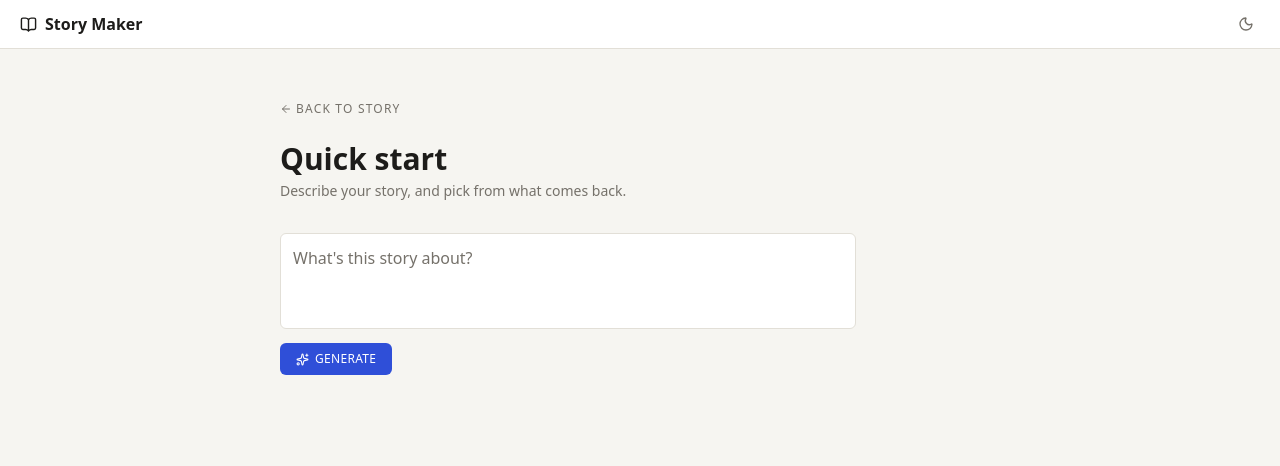
Test: QuickStartPage › shows an inline error and preserves the description when generation fails
Step 1. Type "A heist idea" into the text box with placeholder "What's this story about?" → [568, 281], box [280,233,856,329]
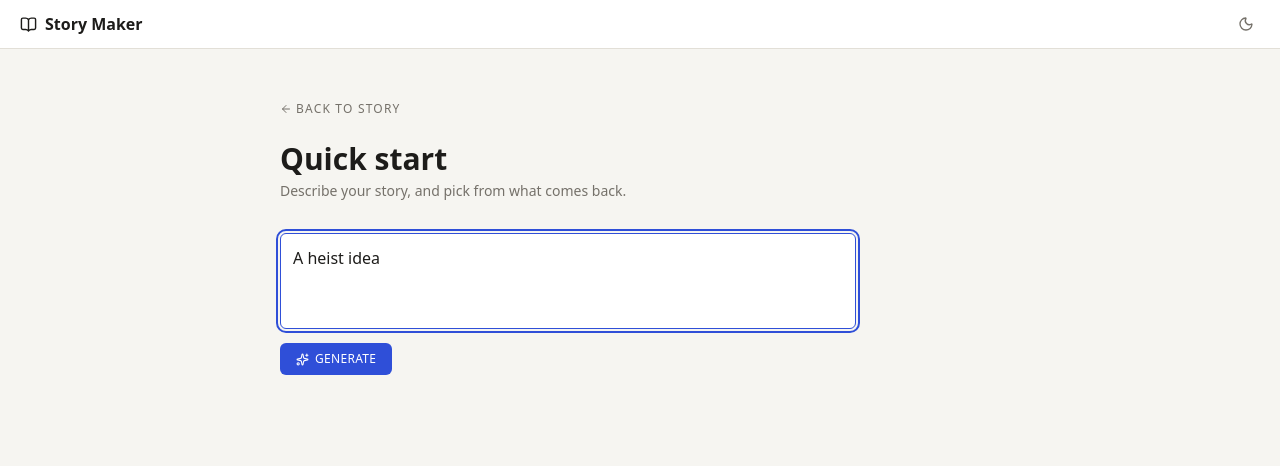
Step 2. Click the button "Generate" → [336, 359], box [280,343,392,375]
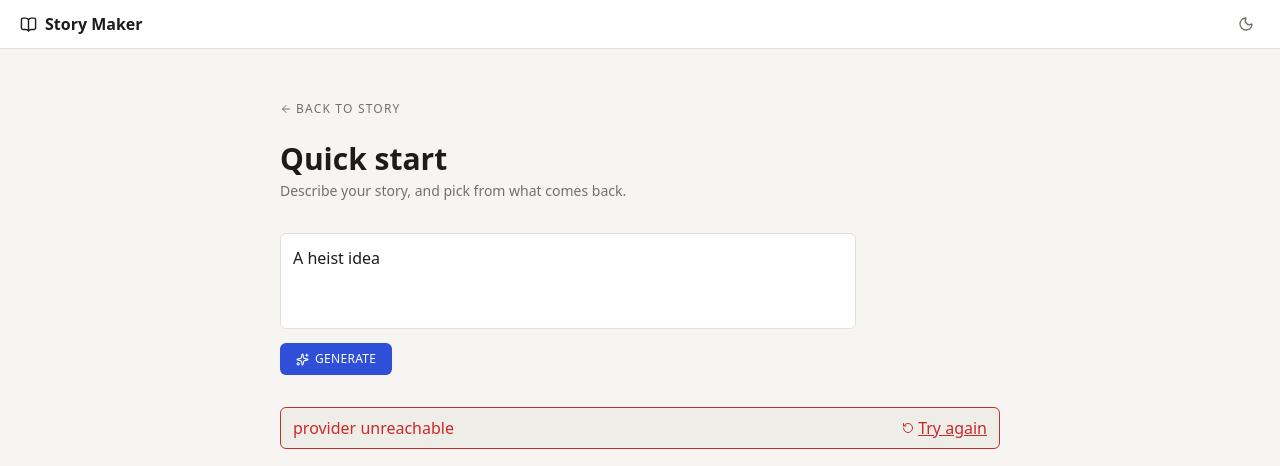
Check: the text "provider unreachable" is shown, box [293,416,454,440]
